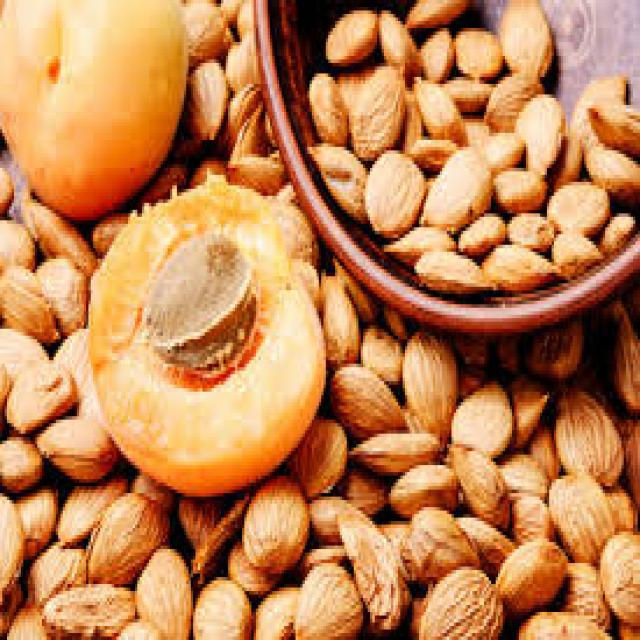cekirdek: (145, 240, 259, 371)
